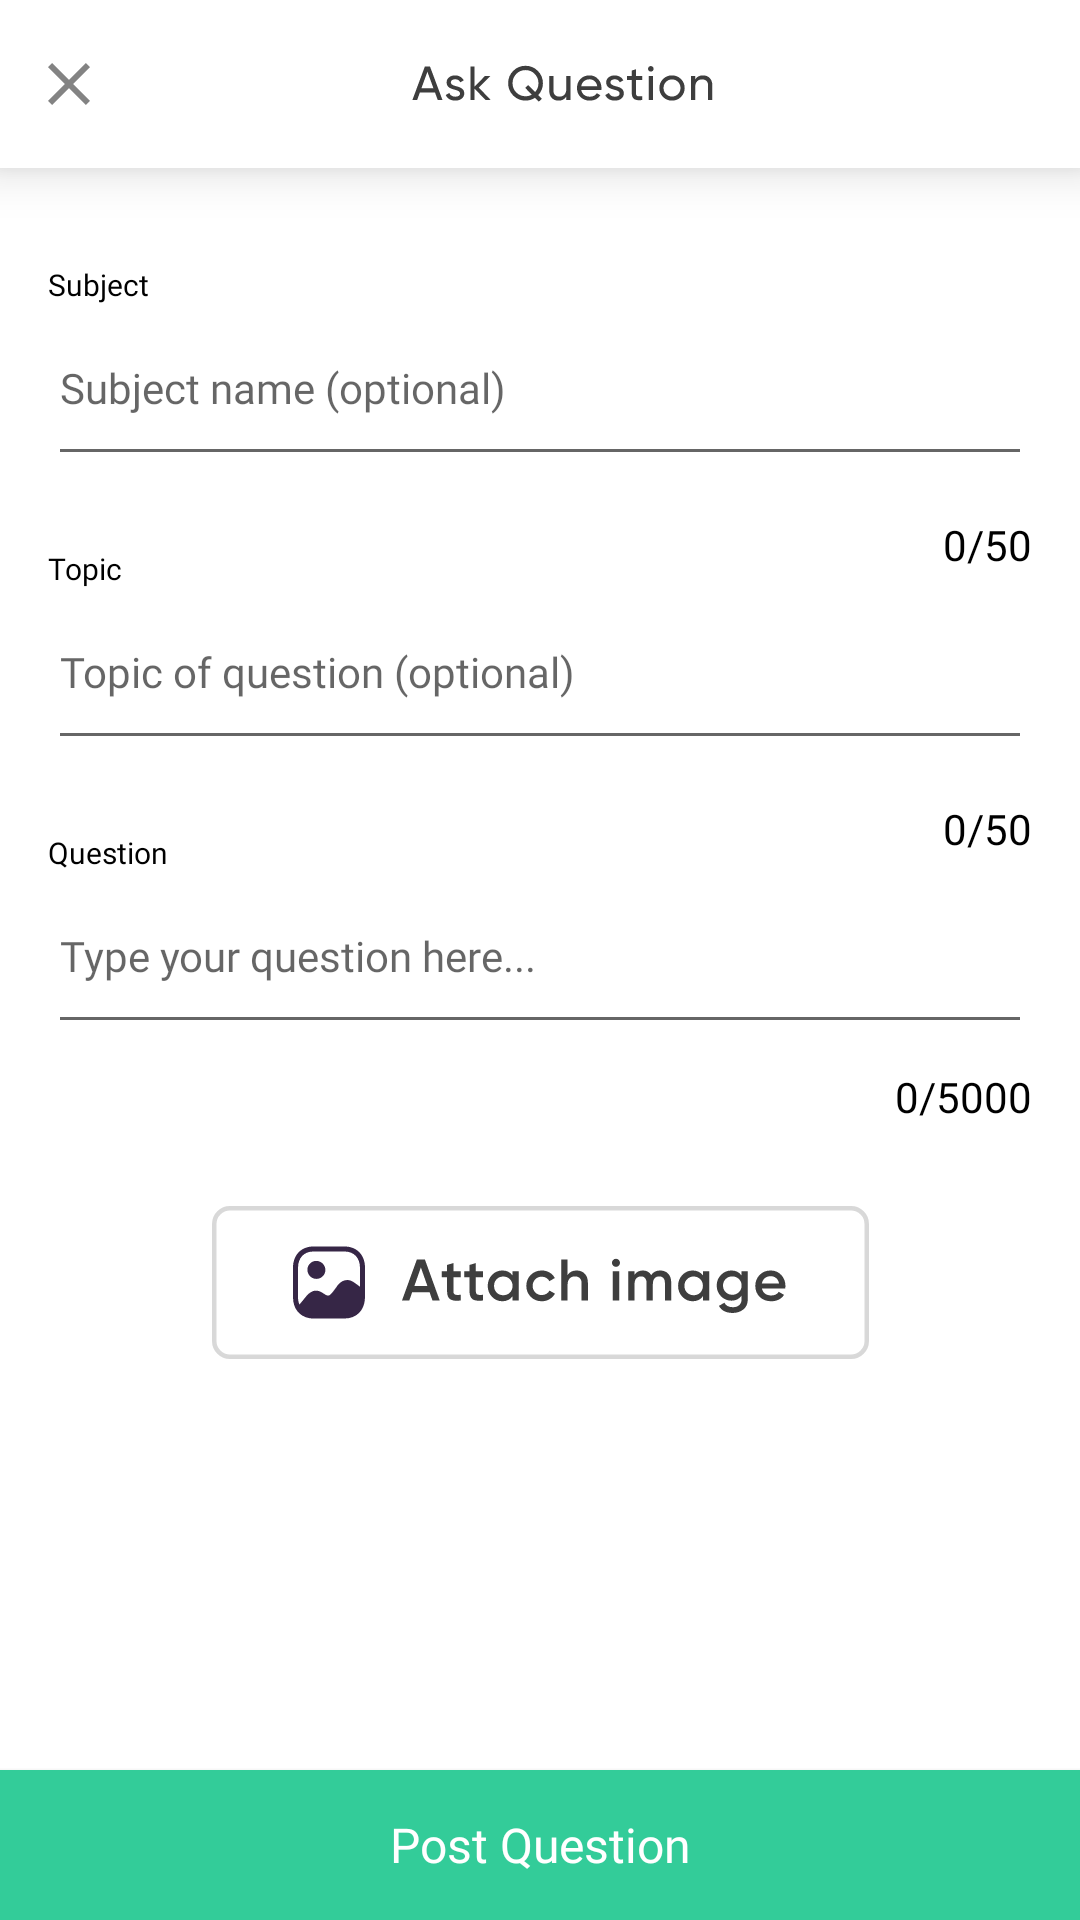

Point at icon controls on the screen. Image size 1080 × 1920, points as (x=x, y=y).
close: (x=69, y=84)
